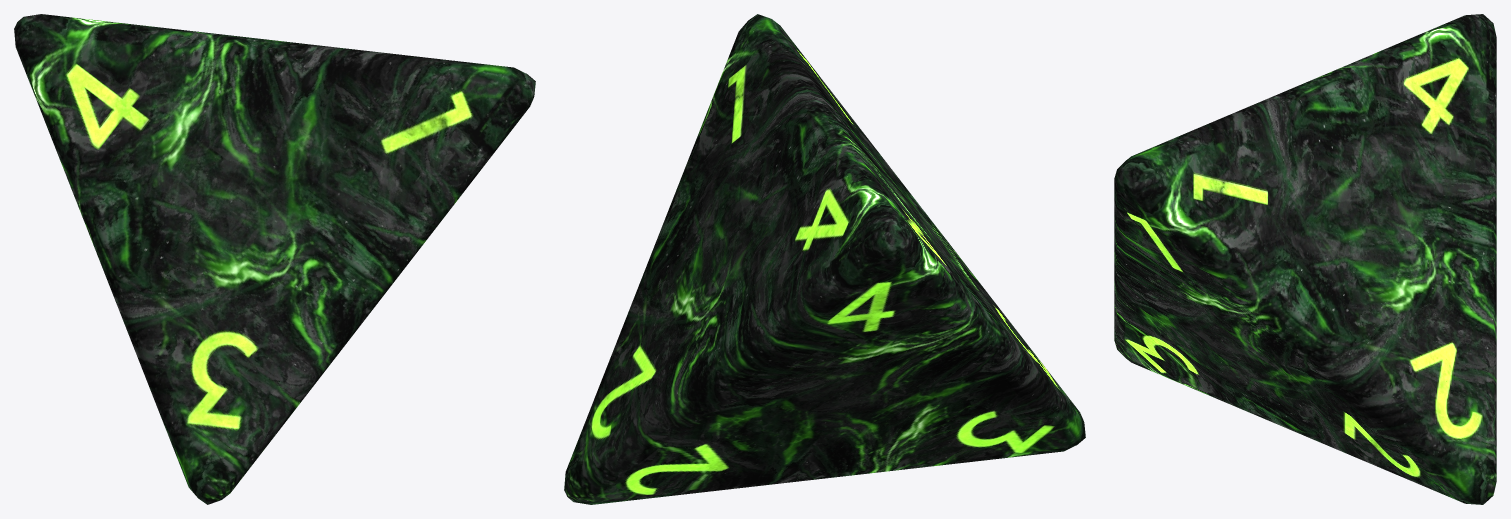
3 views of the same model, side by side, from view 1: azimuth 30°, elevation 25°; view 2: azimuth 150°, elevation 25°; view 3: azimuth 270°, elevation 25° (orthographic). The views are drawn at different scales.
Visible parts, largest first — view 1: dice_4; view 2: dice_4; view 3: dice_4.
Part boxes in pixels (<box>): dice_4: <box>14,14,535,504</box>; dice_4: <box>564,14,1085,504</box>; dice_4: <box>1114,14,1496,504</box>.
Bounding box in the file's own units: 128 × 128 × 128.
1 material, 1 textured.
